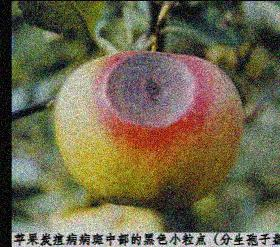rotten apple: (53, 48, 245, 207)
